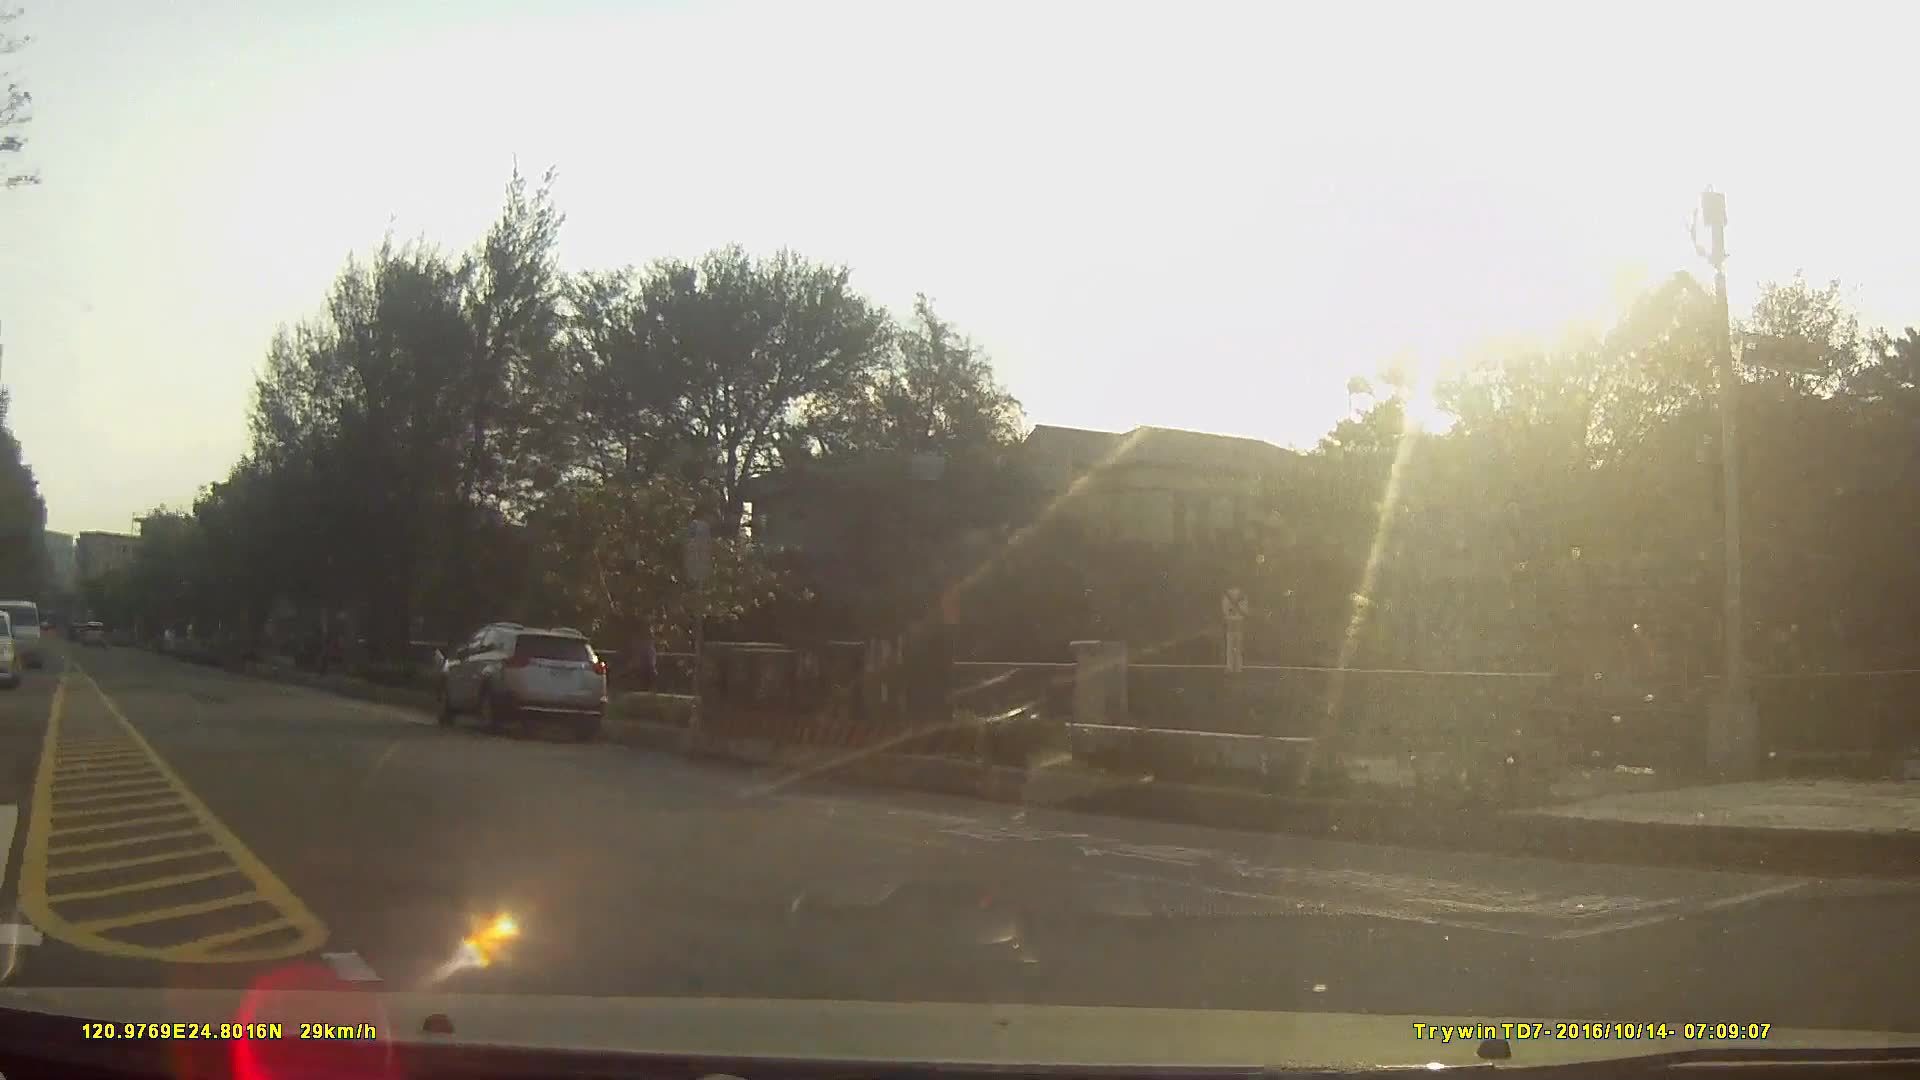vehicle: (433, 622, 607, 731), (3, 599, 44, 669)
